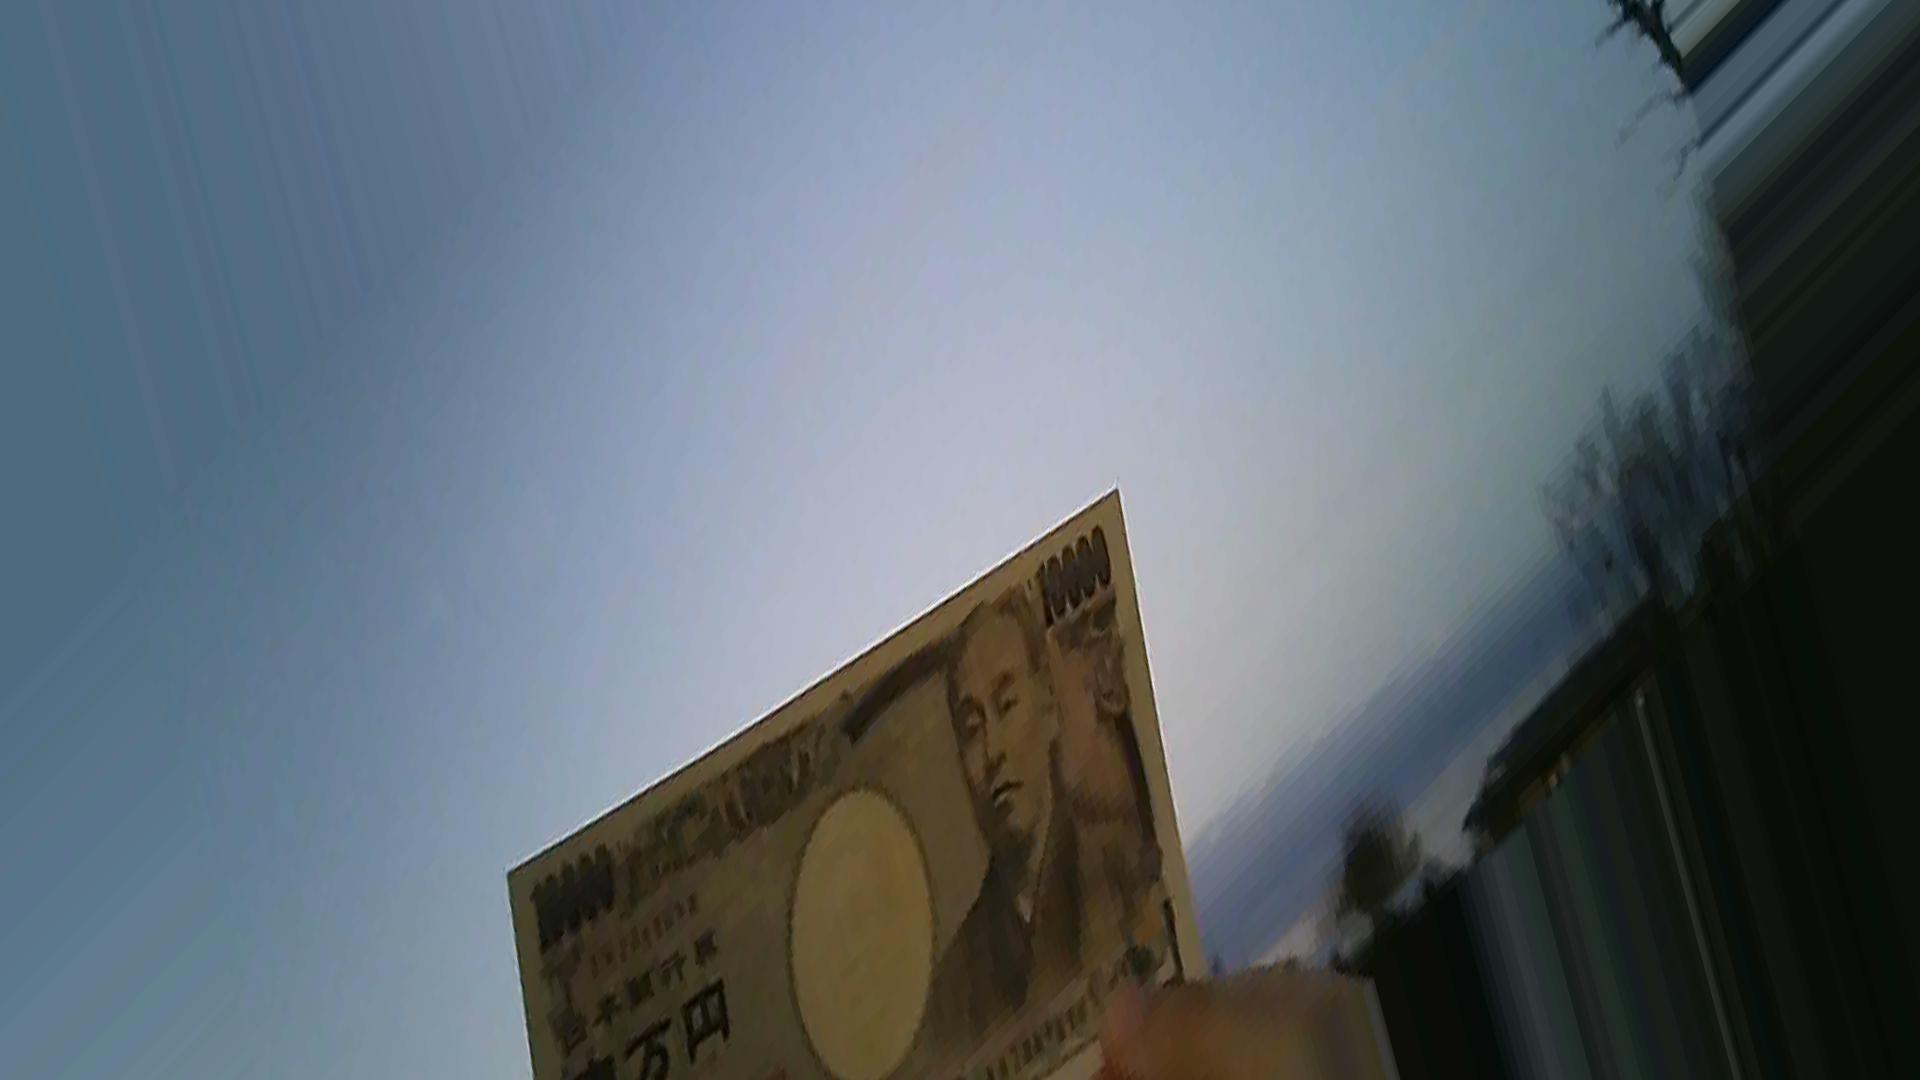10,000 Yen: (436, 452, 1216, 1072)
